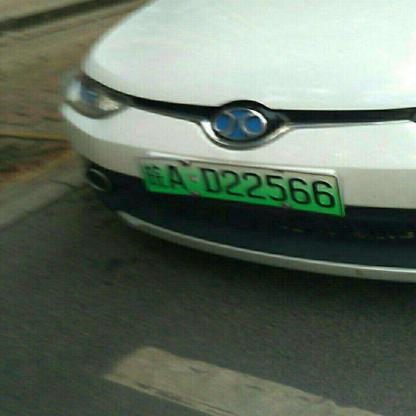lp: (140, 159, 344, 217)
